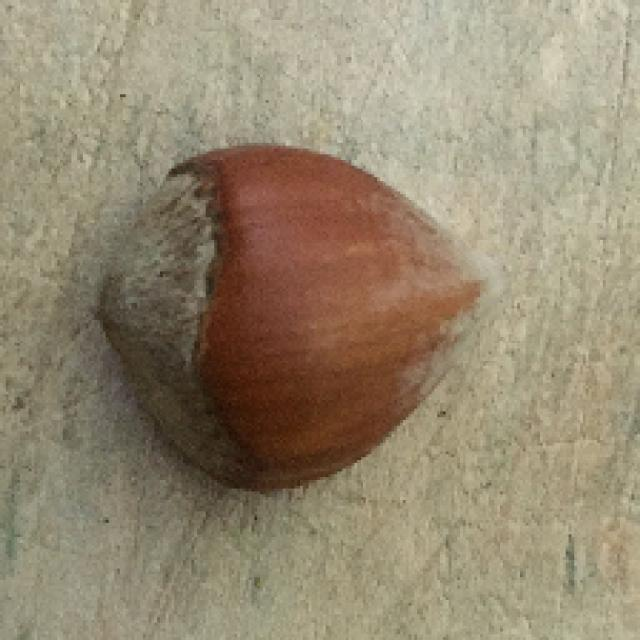qualityHazelnut: (110, 141, 479, 501)
